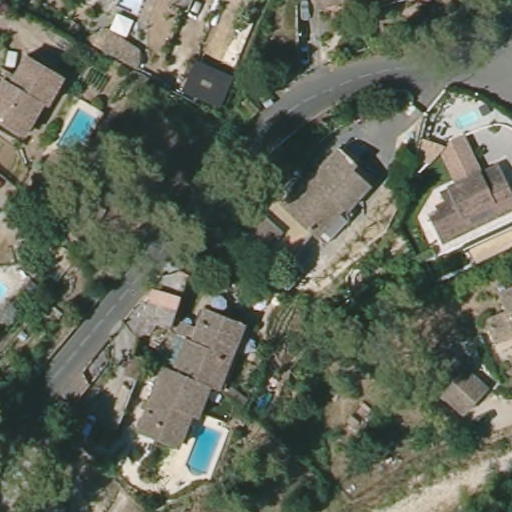pool: (183, 423, 223, 479), (56, 108, 97, 162), (456, 108, 485, 133), (1, 270, 15, 309)
